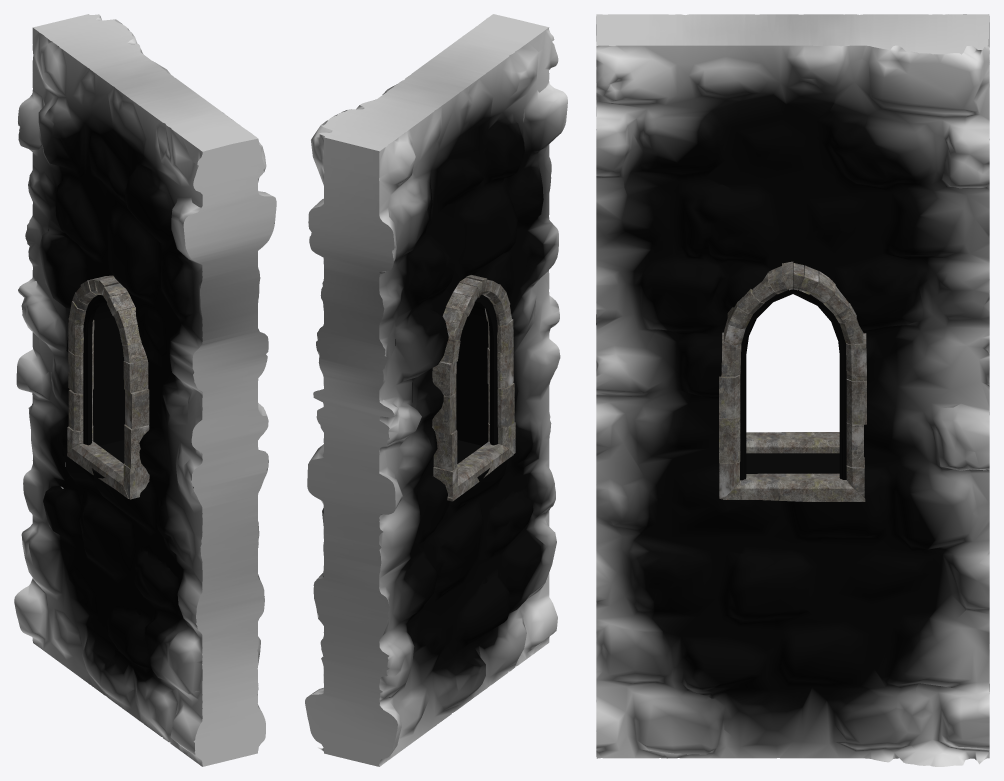
File: SM_CastleTower_Window_A_06.fbx
3 renders of one model, left to right at view 1: azimuth 30°, elevation 25°; view 2: azimuth 150°, elevation 25°; view 3: azimuth 270°, elevation 25°, orthographic. The views are drawn at different scales.
Visible parts, largest first — view 1: SM_CastleTower_Window_A_06_LOD0; view 2: SM_CastleTower_Window_A_06_LOD0; view 3: SM_CastleTower_Window_A_06_LOD0.
Part boxes in pixels (left/top/right/bottom): SM_CastleTower_Window_A_06_LOD0: left=14, top=14, right=276, bottom=766; SM_CastleTower_Window_A_06_LOD0: left=305, top=14, right=567, bottom=766; SM_CastleTower_Window_A_06_LOD0: left=596, top=14, right=989, bottom=766.
Bounding box in the file's own units: 67.52 × 200 × 400.
